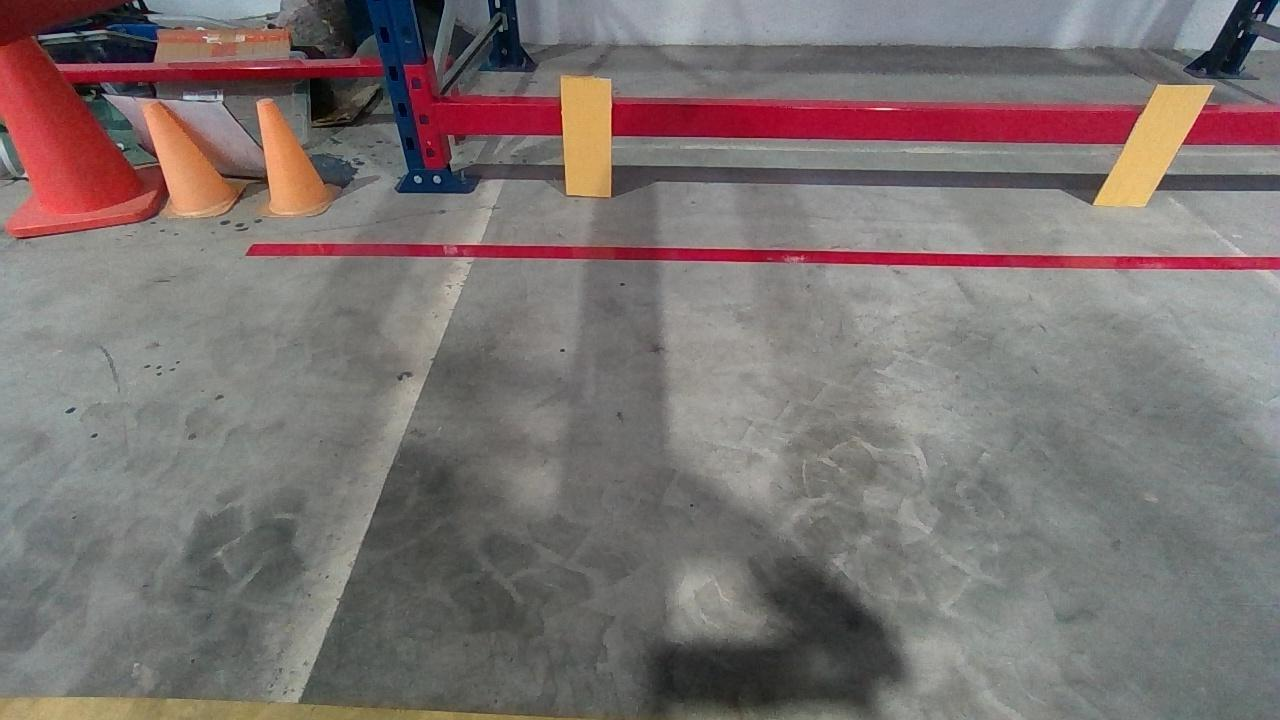h_rack: (445, 103, 1278, 146)
orange_strip: (1091, 81, 1210, 206), (559, 75, 612, 194)
red_line: (241, 239, 1279, 271)
